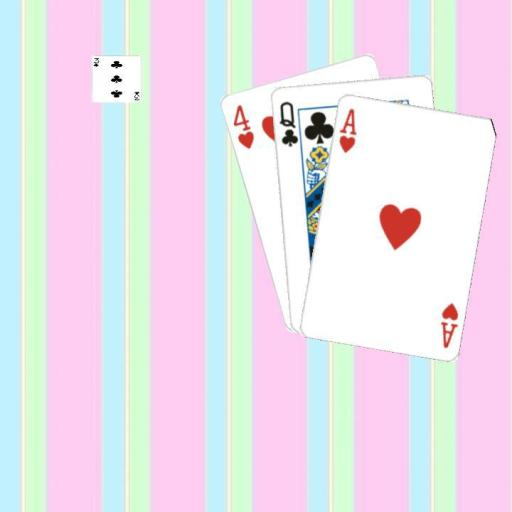4H: (229, 101, 255, 150)
AH: (335, 105, 358, 155), (437, 300, 460, 350)
QC: (276, 98, 299, 148)
